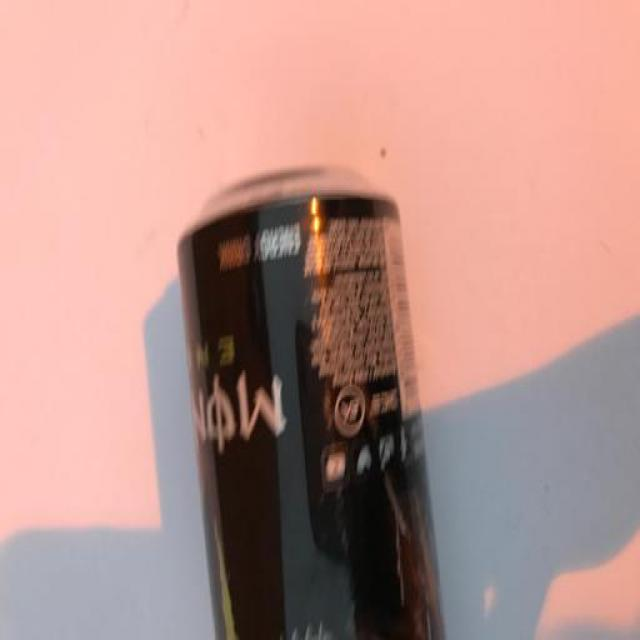metel: (186, 177, 454, 640)
